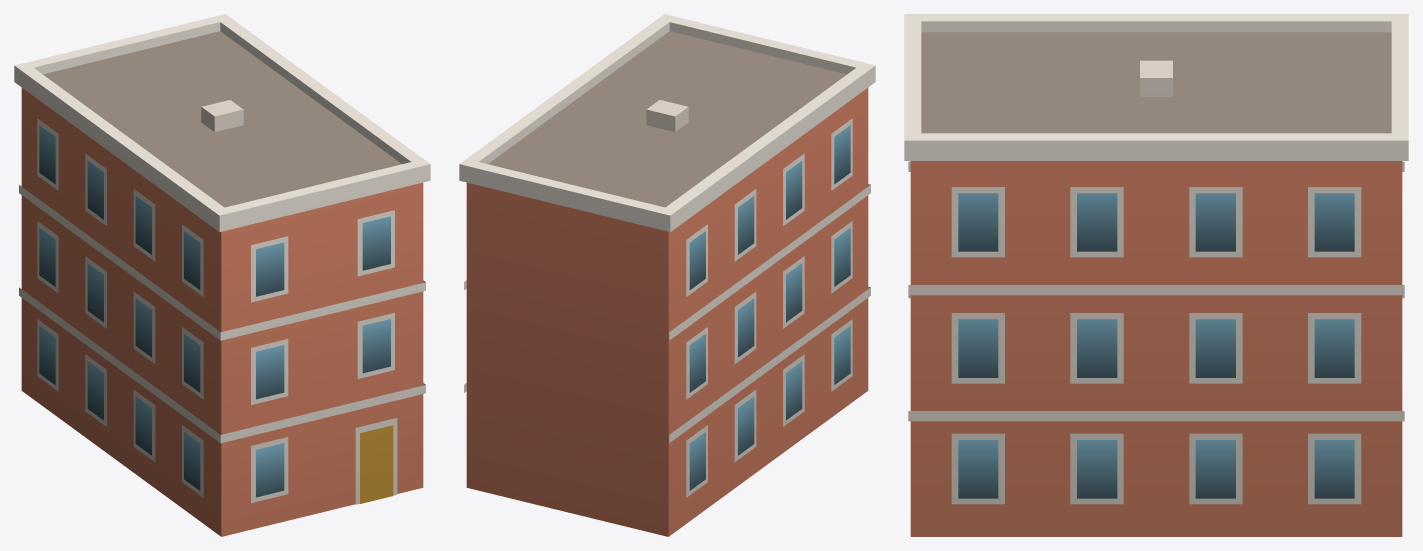
File: beacon_n3_far.glb
3 renders of one model, left to right at view 1: azimuth 30°, elevation 25°; view 2: azimuth 150°, elevation 25°; view 3: azimuth 270°, elevation 25°, orthographic. The views are drawn at different scales.
Parts seen in each view (by area): view 1: beacon_n3_far; view 2: beacon_n3_far; view 3: beacon_n3_far.
Part boxes in pixels (left/top/right/bottom): beacon_n3_far: left=14, top=14, right=430, bottom=536; beacon_n3_far: left=459, top=14, right=875, bottom=536; beacon_n3_far: left=904, top=14, right=1408, bottom=536.
Size of the model in its own units: 7.32 by 10.97 by 12.32.
1 material, 1 textured.
